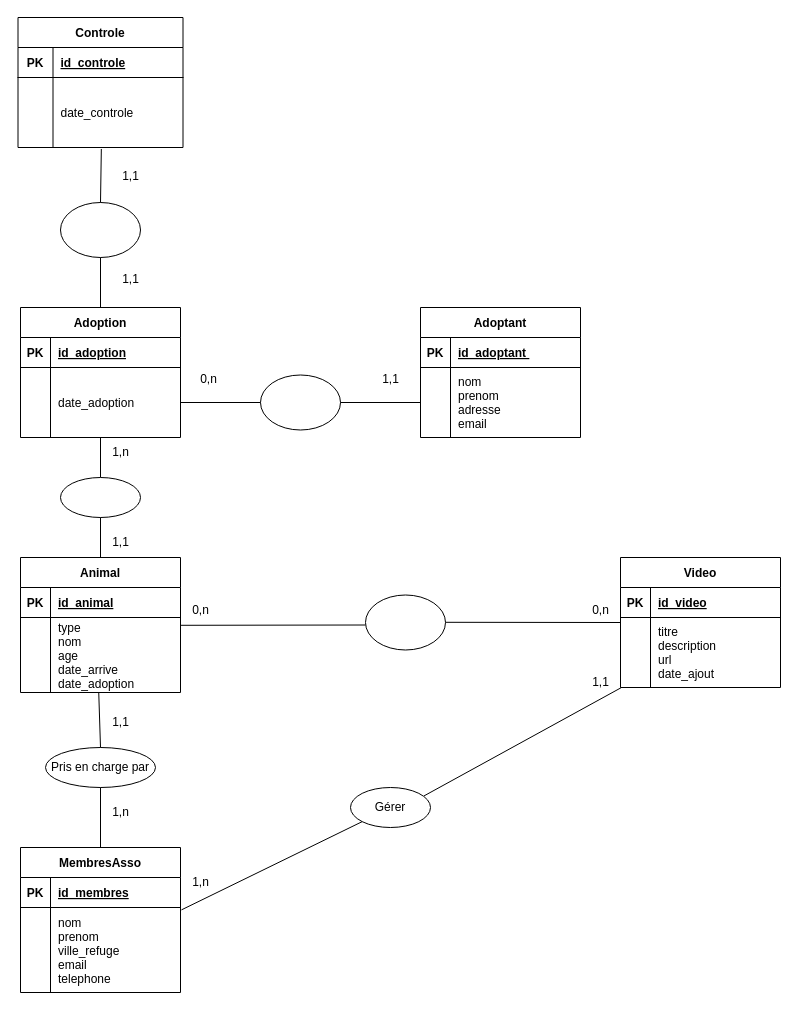
Image size: 798x1010. Some labels were removed from this diagram. The shapes that lost their labels are listed below. From the top down, each one's centre as x and y in pixels, then its label:
At (x=100, y=230): "Suivi par".
At (x=300, y=402): "Réalise".
At (x=100, y=497): "Adopté par".
At (x=405, y=622): "Presente".
